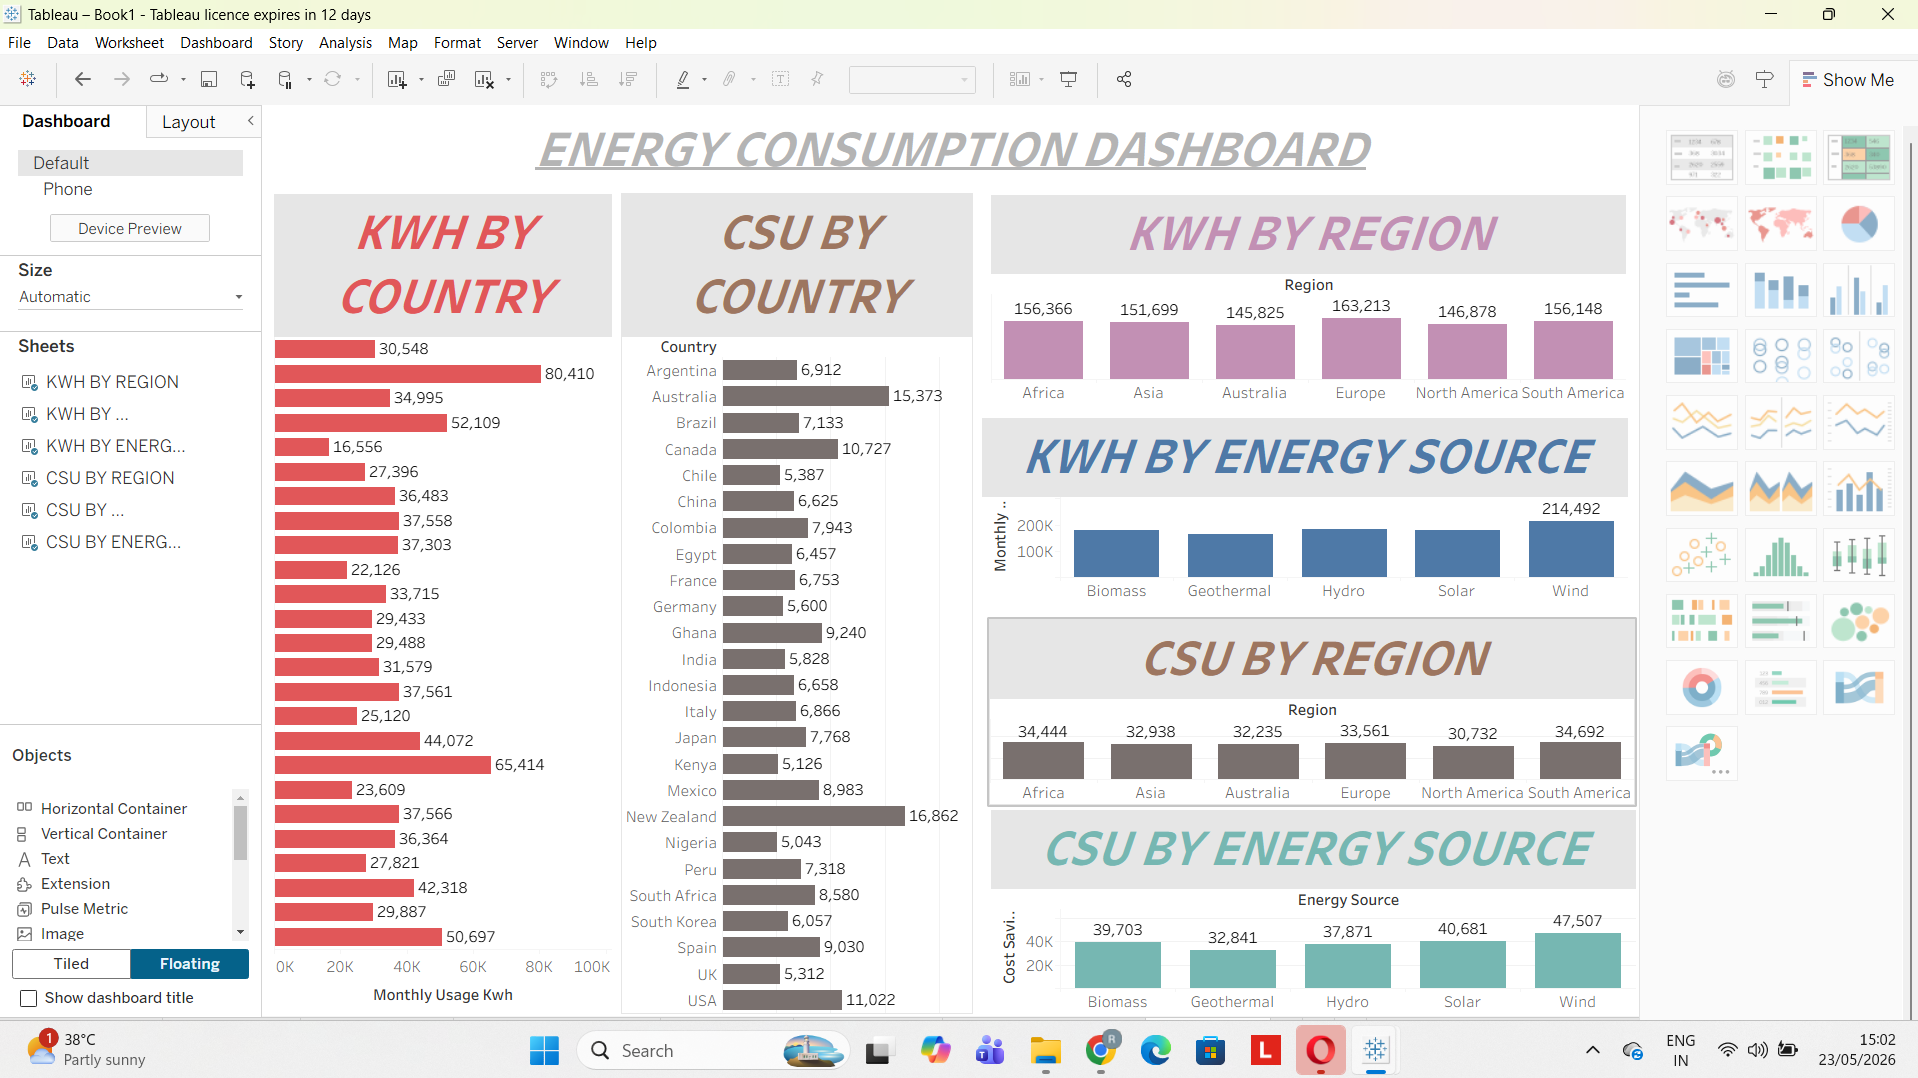

The dashboard page shown, as its layout file describes it:
{"tool":"tableau","page":{"name":"Dashboard 1","canvas":[1000,1000],"units":"permille","ordinal":0},"visuals":[{"type":"text","box":[16.9,2.2,803.3,86.7]},{"type":"worksheet","title":"CSU BY COUNTRY","mark":"Automatic","rows":["COUNTRY"],"cols":["COST_SAVINGS_USD"],"box":[216.7,96.6,212.4,901.2]},{"type":"worksheet","title":"KWH BY COUNTRY","mark":"Automatic","rows":["COUNTRY"],"cols":["MONTHLY_USAGE_KWH"],"box":[7.2,97.7,204,897.9]},{"type":"worksheet","title":"KWH BY REGION","mark":"Automatic","rows":["MONTHLY_USAGE_KWH"],"cols":["REGION"],"box":[439.9,98.8,383.2,229.4]},{"type":"worksheet","title":"KWH BY ENERGY SOURCE","mark":"Automatic","rows":["MONTHLY_USAGE_KWH"],"cols":["ENERGY_SOURCE"],"box":[434.5,343.6,389.9,202]},{"type":"worksheet","title":"CSU BY REGION","mark":"Automatic","rows":["COST_SAVINGS_USD"],"cols":["REGION"],"box":[438.7,564.2,389.9,204.2]},{"type":"worksheet","title":"CSU BY ENERGY SOURCE","mark":"Automatic","rows":["COST_SAVINGS_USD"],"cols":["ENERGY_SOURCE"],"box":[439.9,773.9,389.3,222.8]}]}

Visuals, with their boxes on the dashboard's canvas, which has no fixed pixel size, in thousandths of its width and height (x1, y1, x2, y2). These are canvas units, not pixel positions in the 1918x1078 screenshot, which may show the page scaled, cropped or inside an application window:
text: bbox=[17, 2, 820, 89]
"CSU BY COUNTRY" worksheet: bbox=[217, 97, 429, 998]
"KWH BY COUNTRY" worksheet: bbox=[7, 98, 211, 996]
"KWH BY REGION" worksheet: bbox=[440, 99, 823, 328]
"KWH BY ENERGY SOURCE" worksheet: bbox=[434, 344, 824, 546]
"CSU BY REGION" worksheet: bbox=[439, 564, 829, 768]
"CSU BY ENERGY SOURCE" worksheet: bbox=[440, 774, 829, 997]
